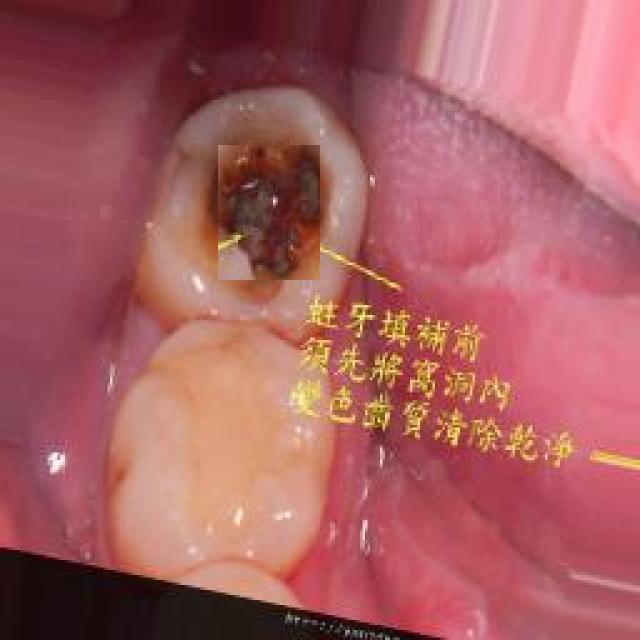caries: (218, 145, 320, 280)
